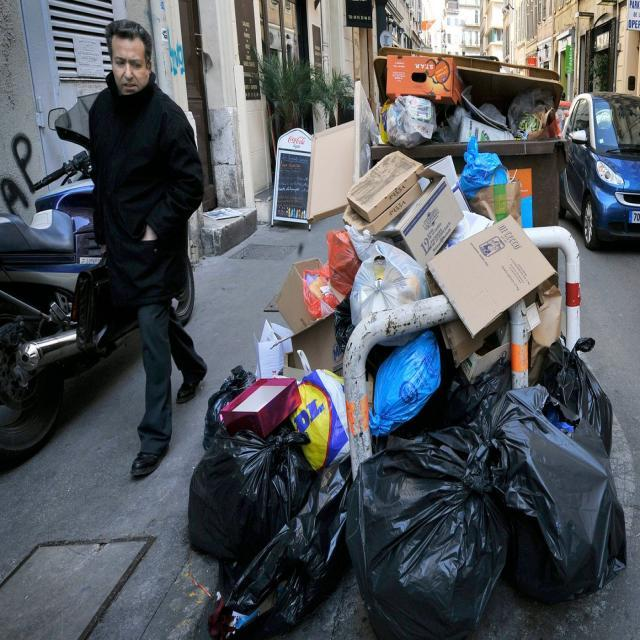garbage: (185, 147, 631, 640), (368, 48, 564, 144)
